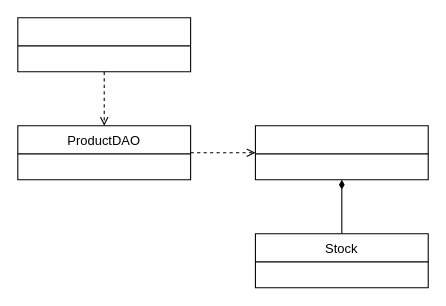
The diagram is 446 pixels wide and 306 high, and some of its shapes have lost their labels. Each missing label, with the centre of its shape:
"Product" belongs at (341,152).
"ProductController" belongs at (104,44).
